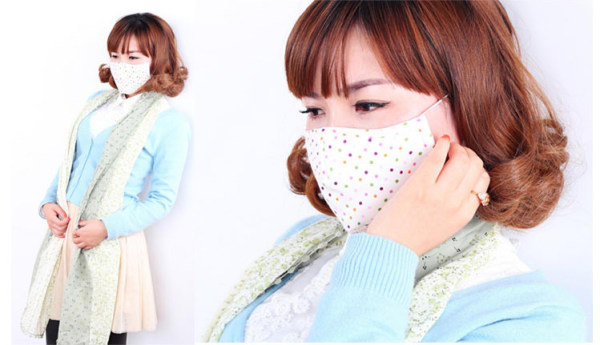face_mask: (305, 51, 439, 237), (111, 45, 149, 94)
